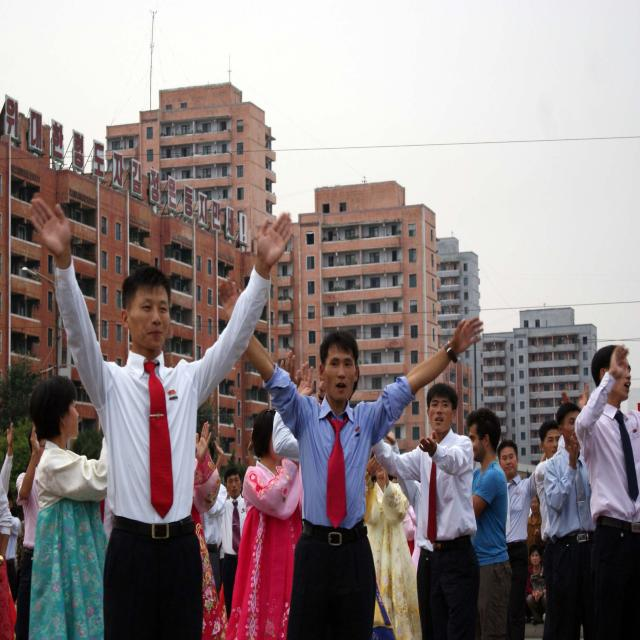body: (22, 190, 302, 640), (214, 272, 486, 640), (369, 380, 482, 640), (26, 373, 108, 640), (571, 337, 640, 640), (226, 407, 302, 639), (533, 381, 591, 640), (543, 400, 594, 638), (464, 406, 514, 640), (271, 346, 363, 465), (384, 429, 435, 640), (496, 437, 546, 640), (190, 419, 229, 640), (214, 427, 256, 625), (14, 420, 48, 640), (376, 454, 439, 563), (196, 438, 228, 604), (0, 409, 21, 640), (525, 543, 547, 620), (525, 492, 547, 567)
